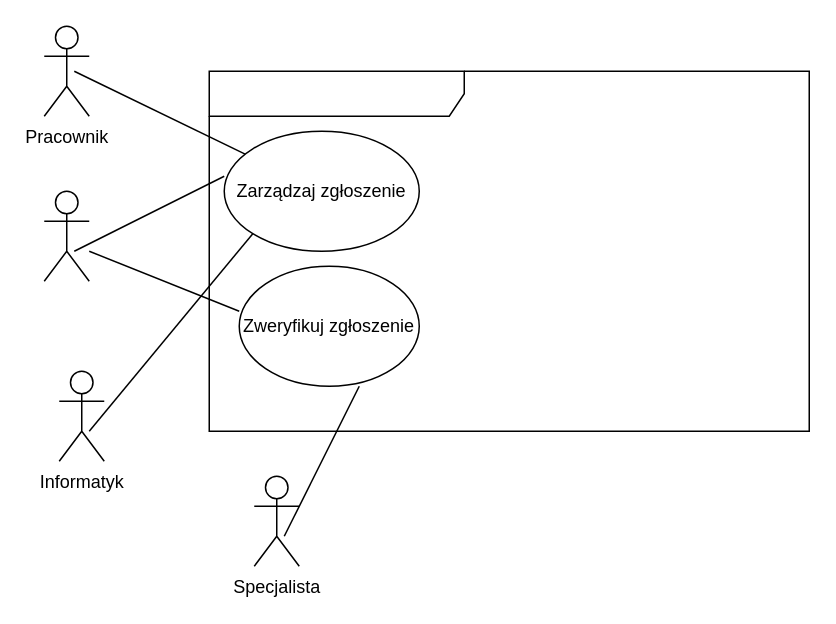
Some shapes in this 836 by 624 pixel diagram are drawn without their labels. The shapes that lost their labels are listed below. From the top down, each one's box as (x1, y1, x2, y2) in pixels, then its label:
(43, 190, 89, 281): Szef
(208, 70, 809, 431): Obsługa asysty technicznej
